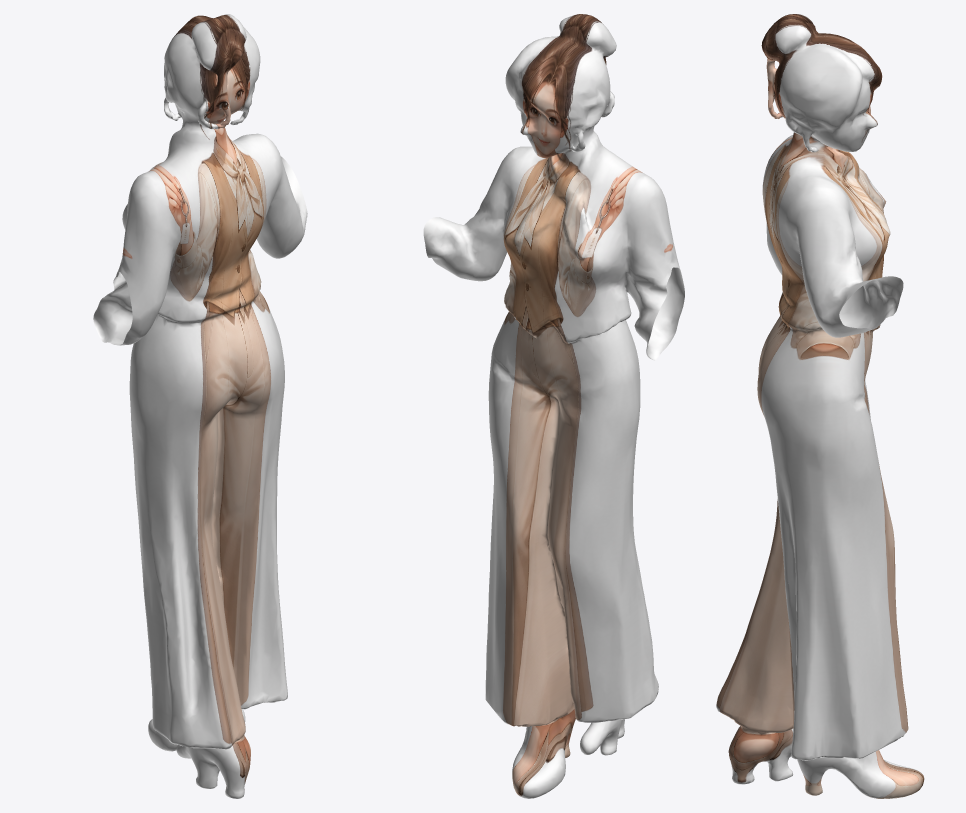
File: HotelOwner_TexturedProjection.obj
3 renders of one model, left to right at view 1: azimuth 30°, elevation 25°; view 2: azimuth 150°, elevation 25°; view 3: azimuth 270°, elevation 25°, orthographic. The views are drawn at different scales.
Parts seen in each view (by area): view 1: HotelOwner_Modly_FirstPass.005; view 2: HotelOwner_Modly_FirstPass.005; view 3: HotelOwner_Modly_FirstPass.005.
Boxes of the visible parts, x1,y1,x2,y2 form: HotelOwner_Modly_FirstPass.005: [93, 14, 307, 798]; HotelOwner_Modly_FirstPass.005: [423, 14, 684, 798]; HotelOwner_Modly_FirstPass.005: [716, 14, 924, 798].
Bounding box in the file's own units: 0.8049 × 1.82 × 0.5026.
1 material, 1 textured.
